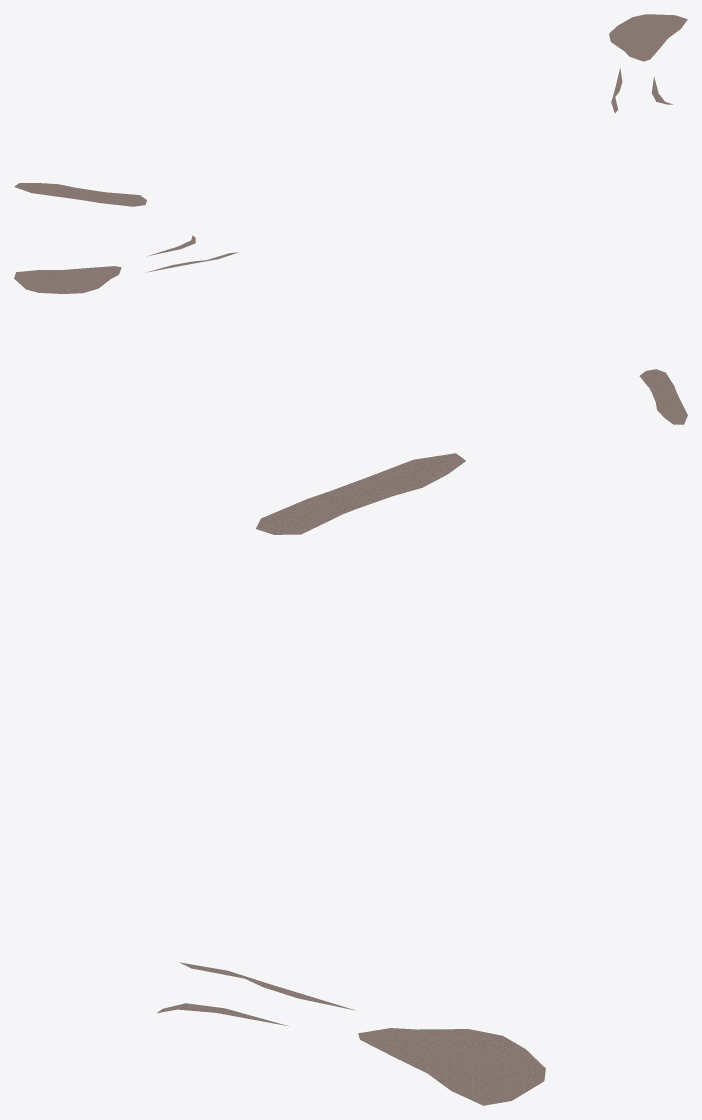
The model's file is kd_stage_136282_3_8.glb.
3 renders of one model, top to bottom at view 1: azimuth 30°, elevation 25°; view 2: azimuth 150°, elevation 25°; view 3: azimuth 270°, elevation 25°, orthographic. The views are drawn at different scales.
Parts seen in each view (by area): view 1: kd_stage_136282_3_8; view 2: kd_stage_136282_3_8; view 3: kd_stage_136282_3_8.
Boxes of the visible parts, x1=… form: kd_stage_136282_3_8: x1=14, y1=14, x2=687, y2=206; kd_stage_136282_3_8: x1=14, y1=235, x2=687, y2=424; kd_stage_136282_3_8: x1=156, y1=453, x2=545, y2=1105.
Size of the model in its own units: 13.02 by 0.07 by 3.32.
Materials: 1 (1 with a texture image).
